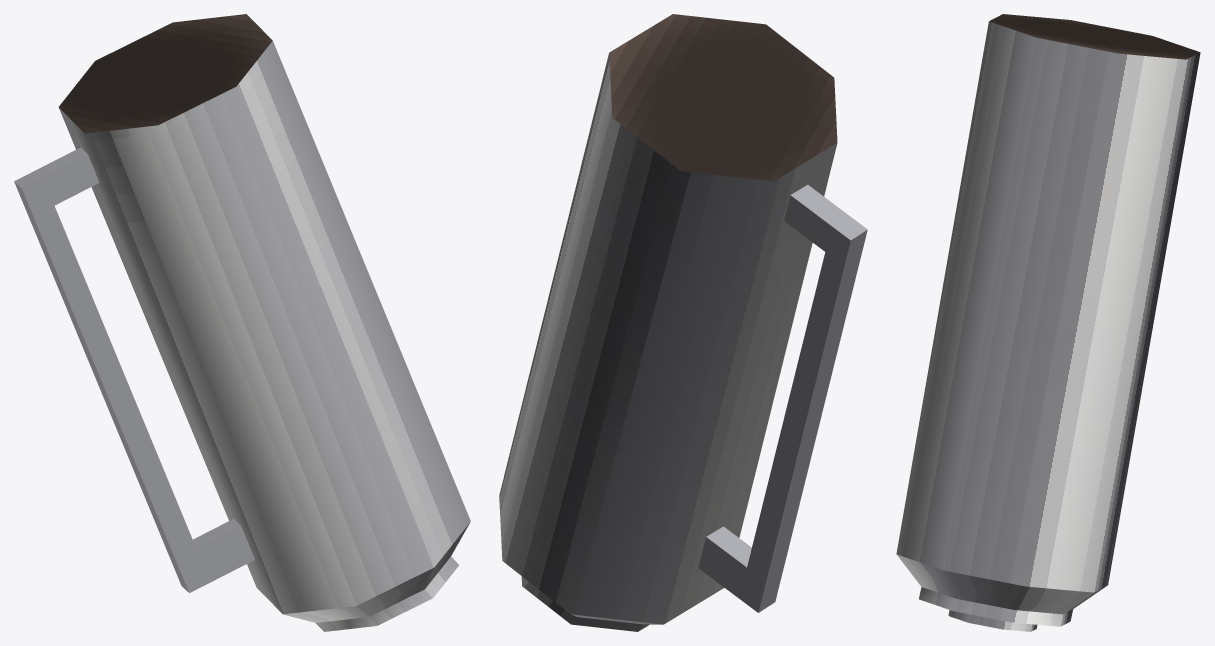
The model's file is C_CoffeeThermos.fbx.
3 renders of one model, left to right at view 1: azimuth 30°, elevation 25°; view 2: azimuth 150°, elevation 25°; view 3: azimuth 270°, elevation 25°, orthographic. The views are drawn at different scales.
Parts seen in each view (by area): view 1: CoffeeThermos; view 2: CoffeeThermos; view 3: CoffeeThermos.
Part boxes in pixels (x1,y1,x2,y2): CoffeeThermos: (14, 14, 470, 631); CoffeeThermos: (499, 14, 867, 631); CoffeeThermos: (896, 14, 1200, 631).
Bounding box in the file's own units: 35.21 × 51.09 × 25.3.
